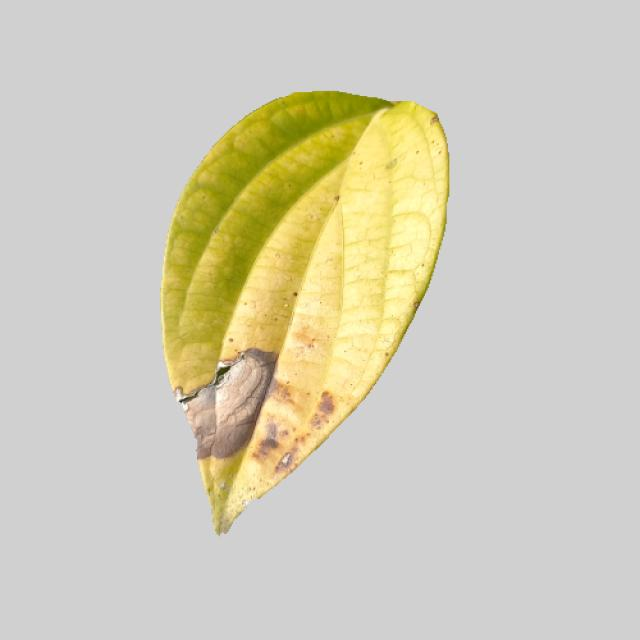leaf-blight: (148, 104, 454, 542)
